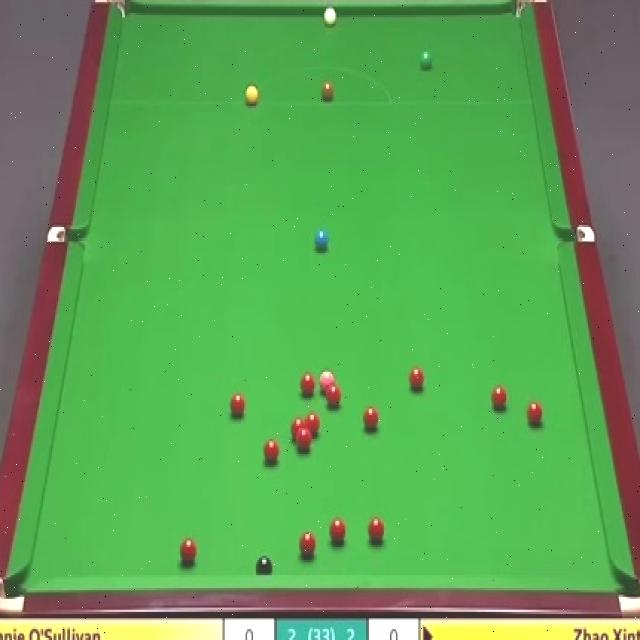black-ball: (255, 556, 273, 574)
blue-ball: (313, 228, 328, 251)
brown-ball: (320, 80, 335, 102)
green-ball: (420, 47, 432, 68)
pink-ball: (319, 368, 335, 395)
red-ball: (489, 383, 508, 411), (261, 436, 279, 465), (179, 536, 198, 563), (328, 518, 346, 546), (527, 402, 545, 430), (228, 391, 247, 417), (298, 530, 316, 557), (296, 426, 312, 456), (303, 411, 321, 436), (368, 518, 385, 541), (301, 372, 315, 399), (364, 405, 379, 430), (409, 367, 425, 390), (292, 417, 306, 443), (327, 386, 341, 407)
white-ball: (322, 7, 340, 26)
yellow-ball: (242, 85, 260, 106)
